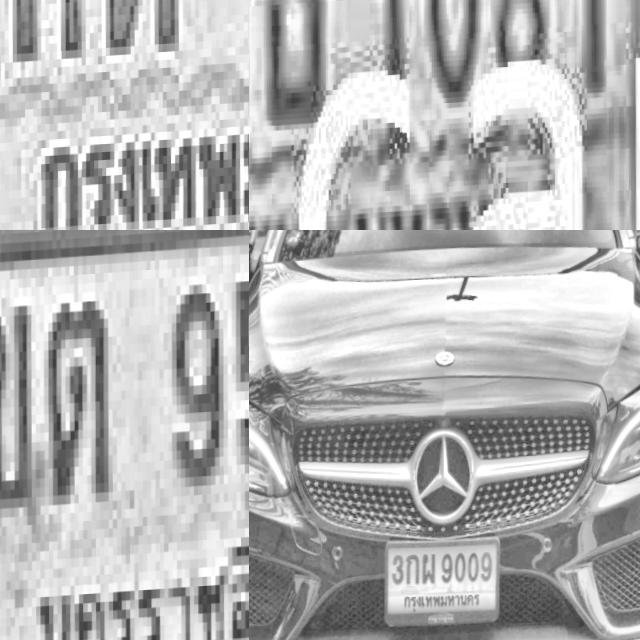license-plate: (0, 230, 249, 640), (249, 0, 640, 230), (0, 0, 249, 230), (386, 536, 502, 626)
